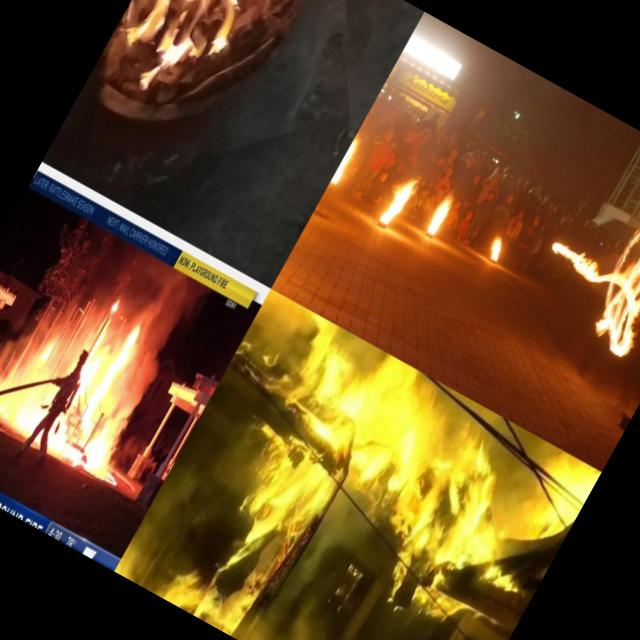fire: (147, 308, 583, 640), (511, 130, 640, 391), (110, 0, 287, 90), (75, 318, 148, 428), (80, 413, 134, 479), (10, 374, 62, 441), (375, 172, 426, 236), (416, 186, 466, 249), (44, 422, 93, 472), (480, 222, 520, 269), (331, 136, 367, 186), (33, 325, 66, 371)
smoke: (112, 252, 218, 350), (104, 330, 174, 424), (46, 295, 108, 381), (0, 316, 47, 394)
